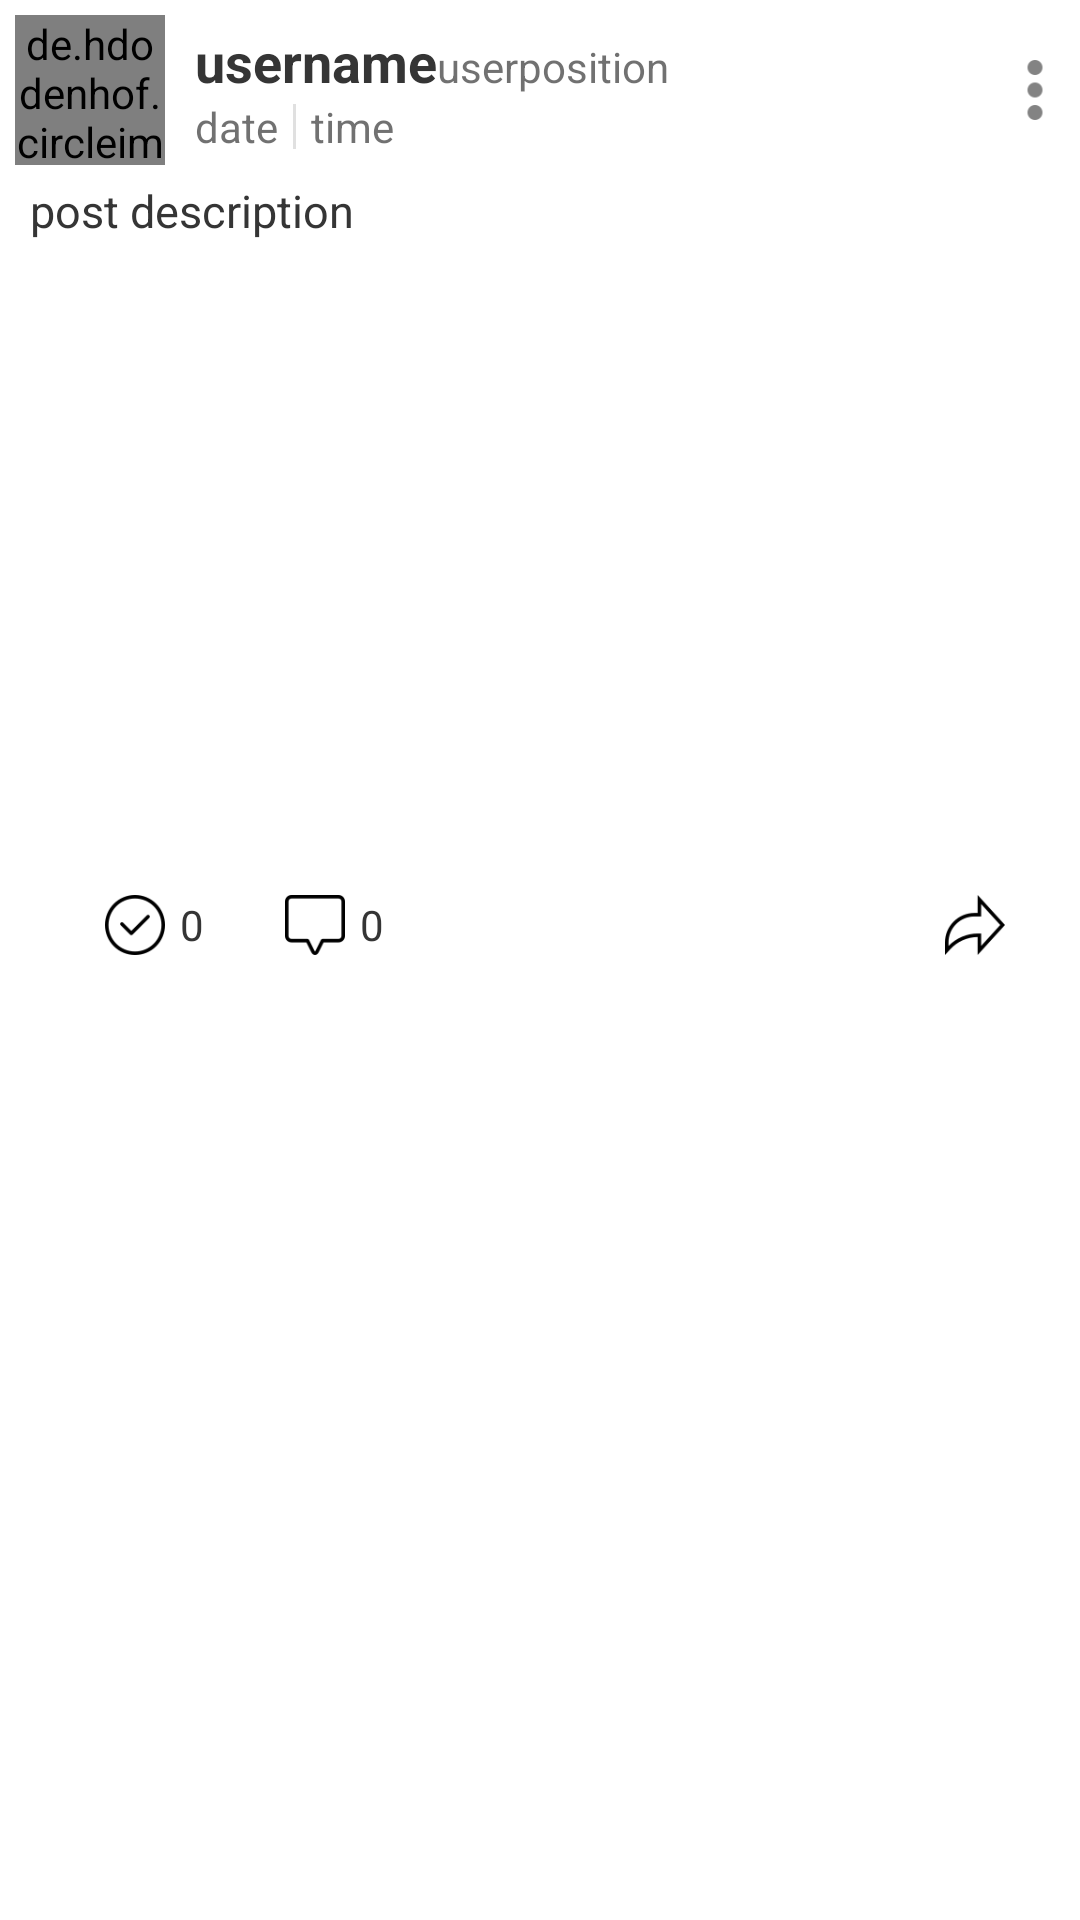

Icons on this 1080*1920 Android screen, each with the point to tap as (x=x, y=y):
before vote: (x=135, y=925)
comment: (x=315, y=925)
menu: (x=1035, y=90)
share: (x=975, y=925)
